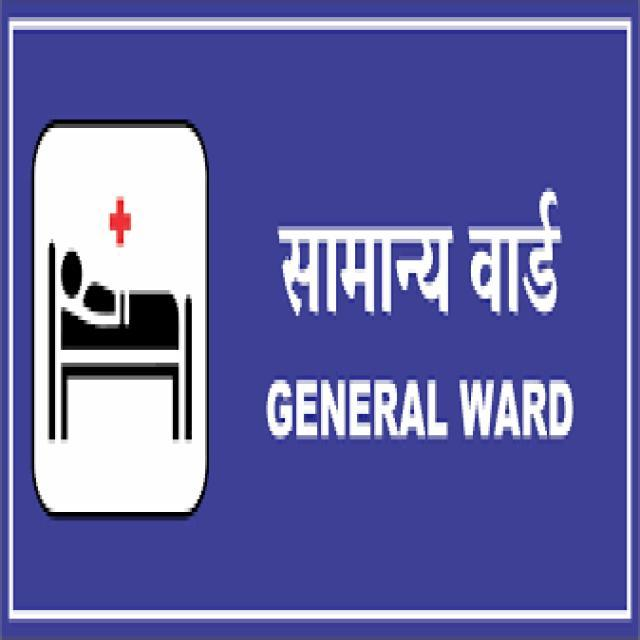hospital ahead: (12, 27, 238, 577)
